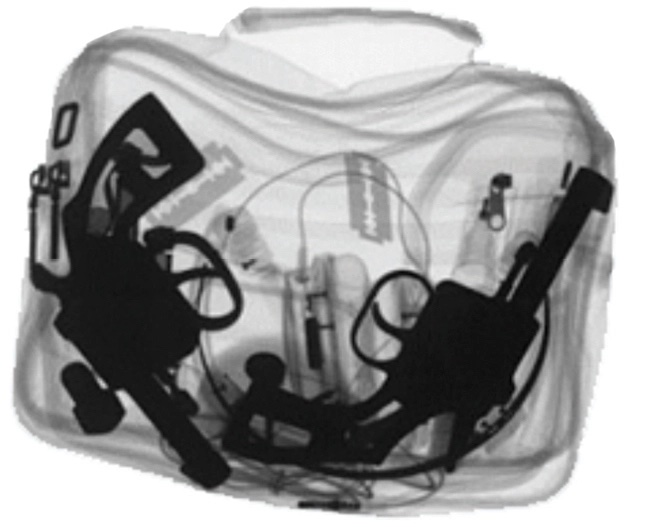gun: (47, 84, 239, 493)
